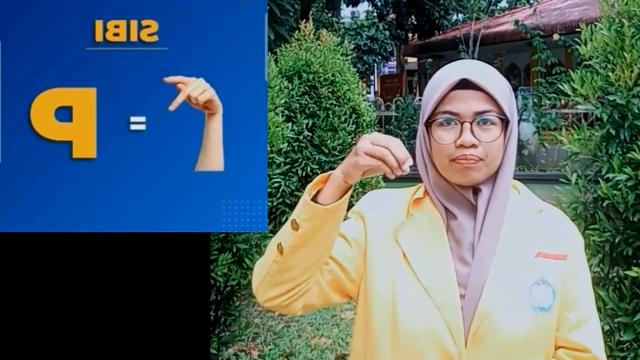P: (161, 73, 223, 119)
